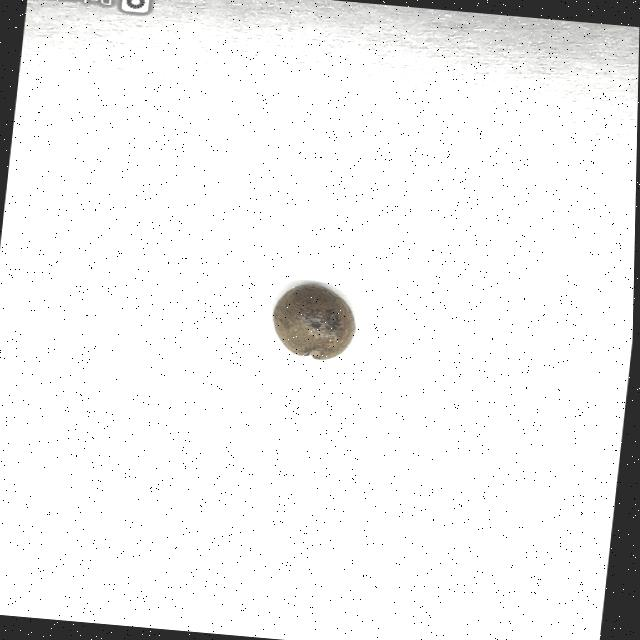Black: (269, 280, 363, 364)
